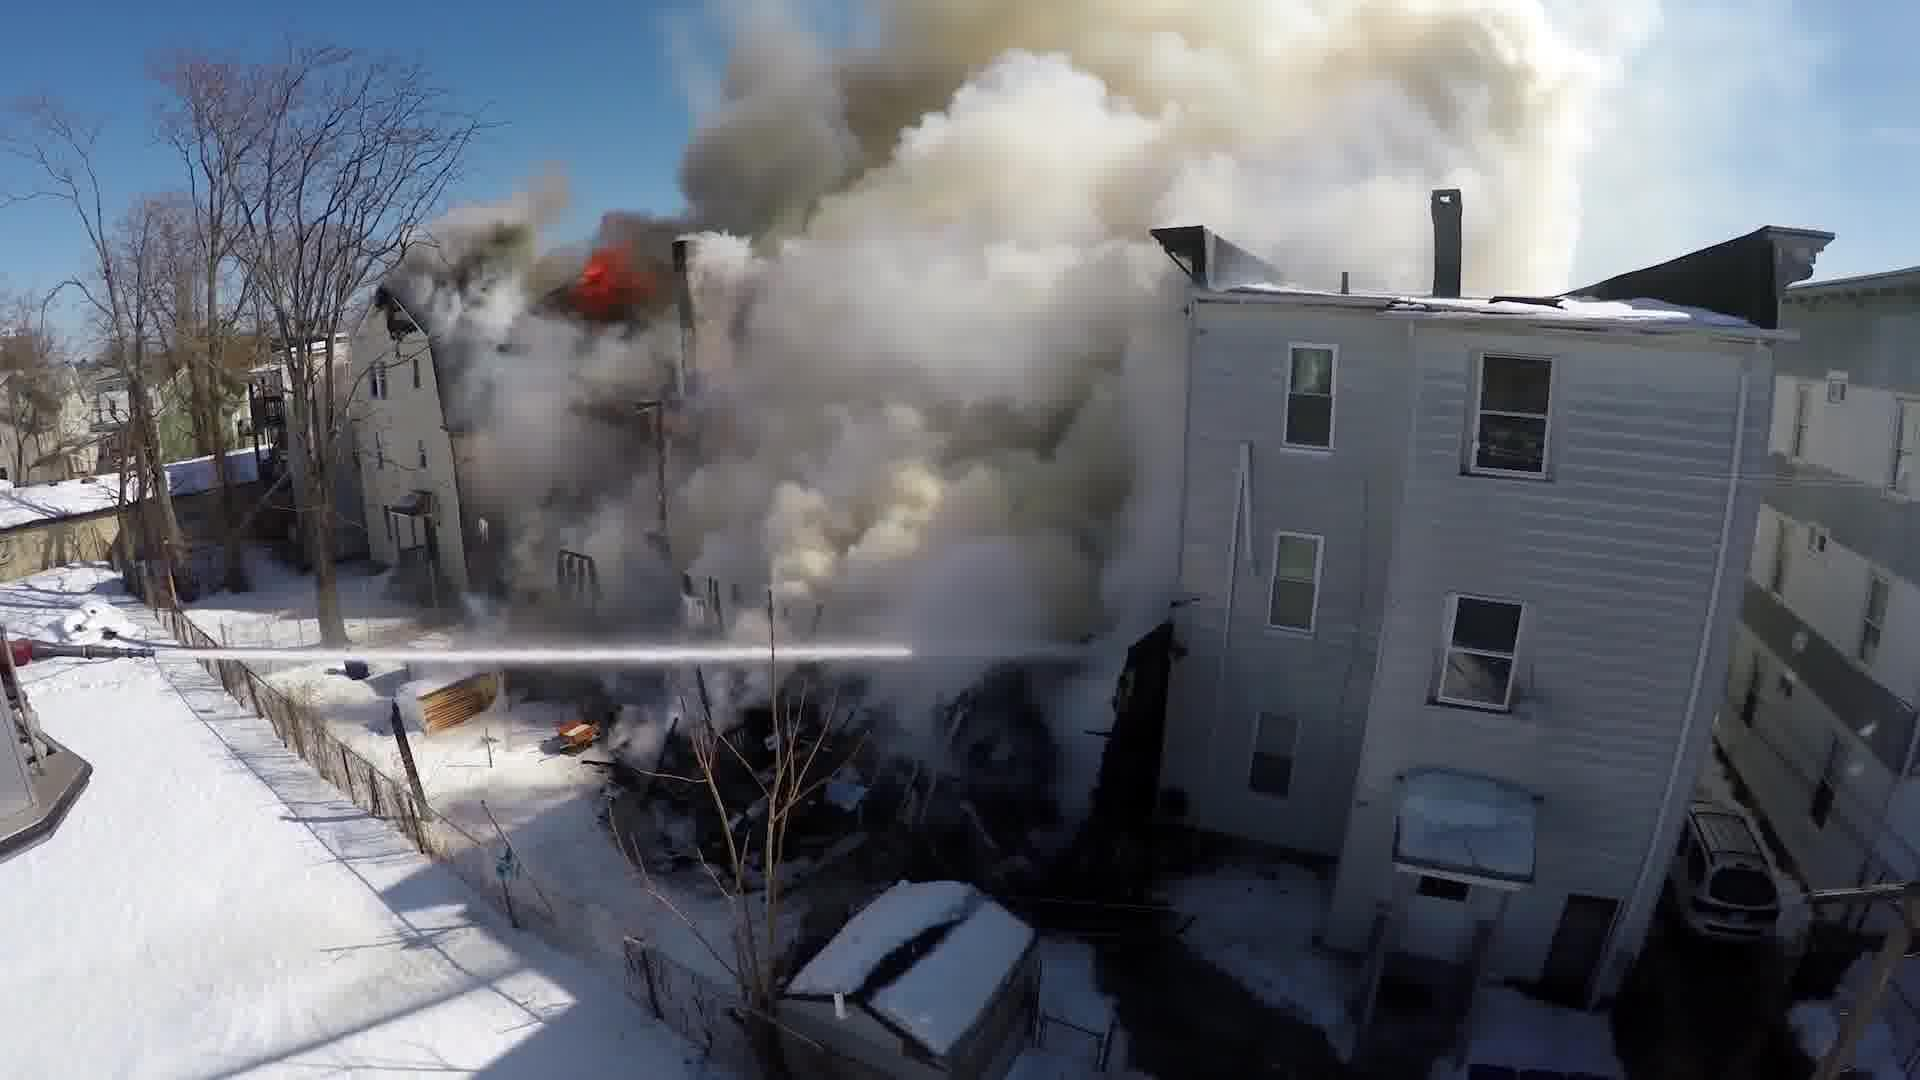smoke: (708, 45, 1101, 696), (1118, 8, 1528, 227), (475, 323, 633, 580)
